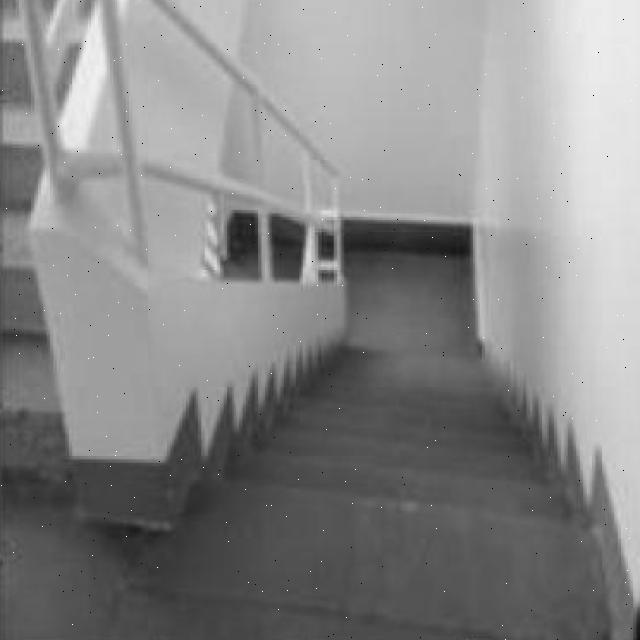stair: (224, 330, 592, 535)
